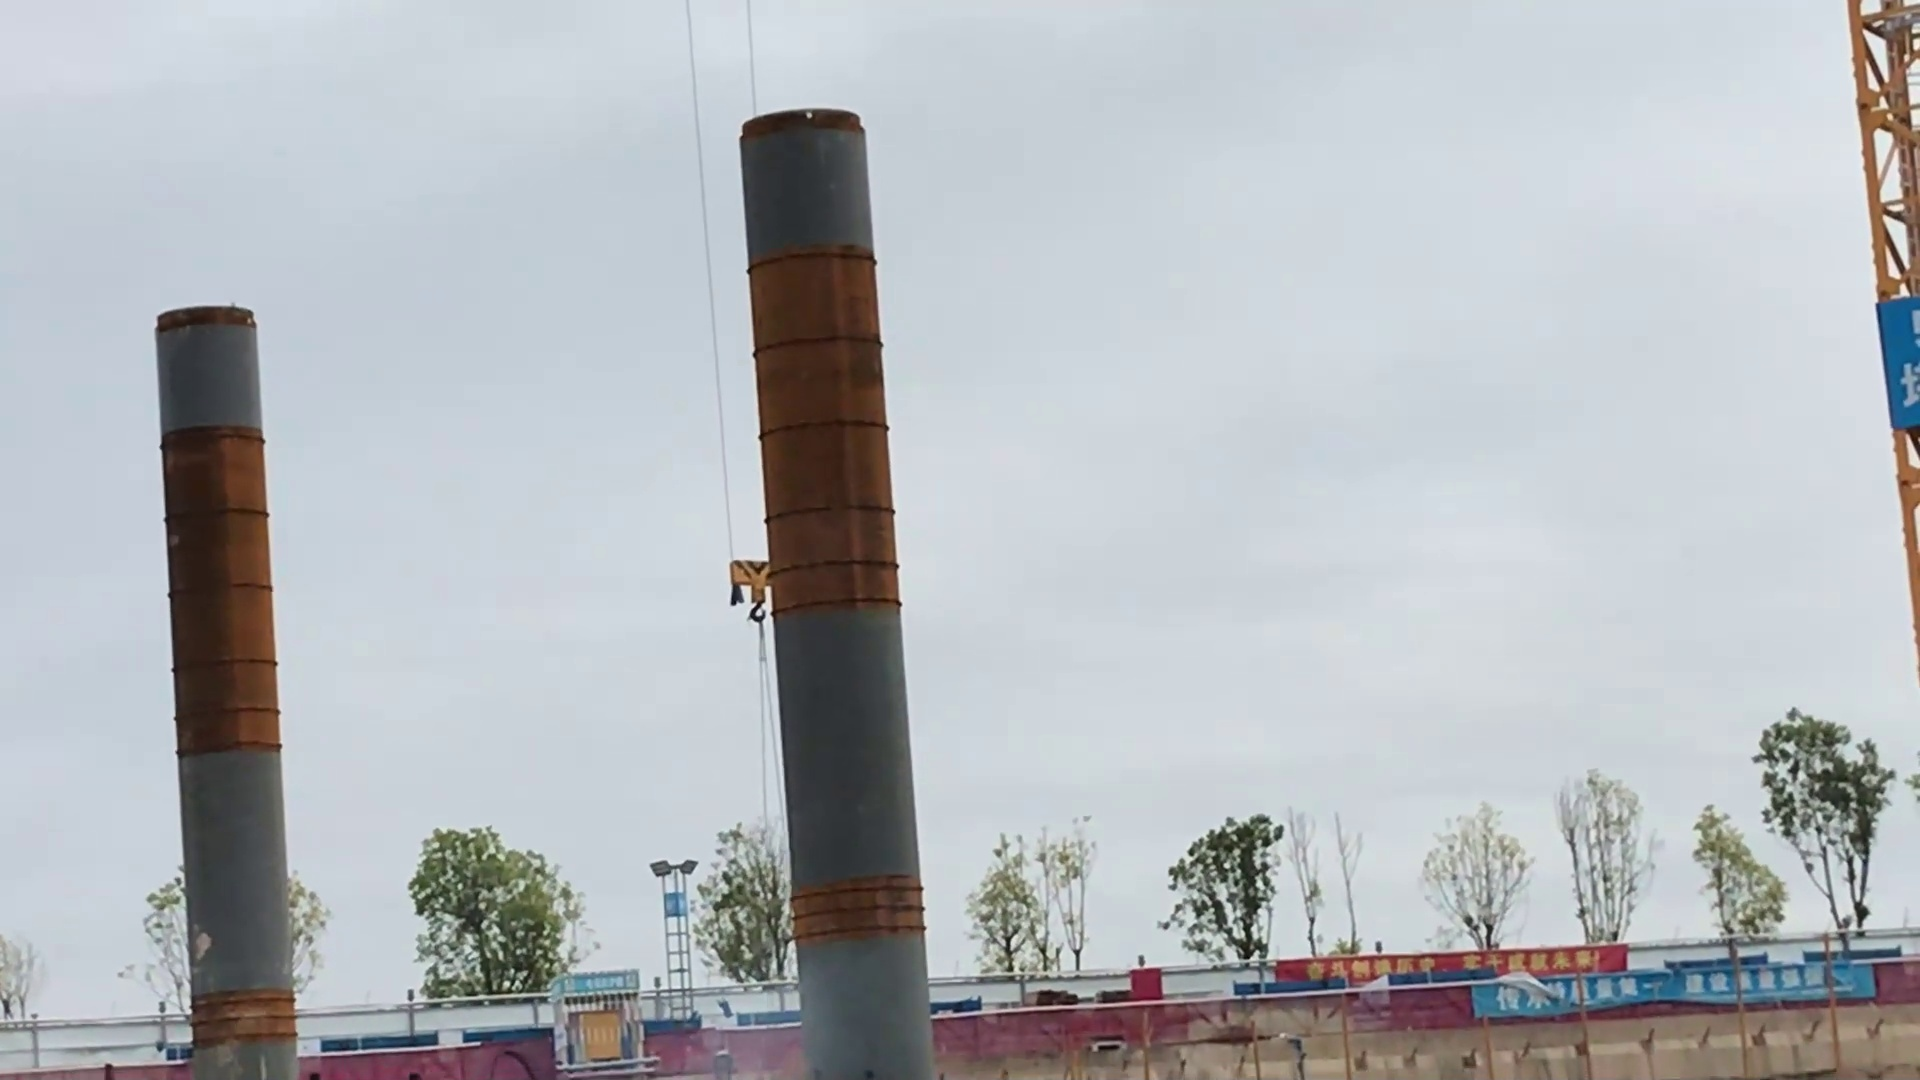ebox: (568, 1007, 626, 1062)
hook: (724, 556, 771, 625)
slogan: (1473, 961, 1873, 1021), (1276, 947, 1627, 992)
